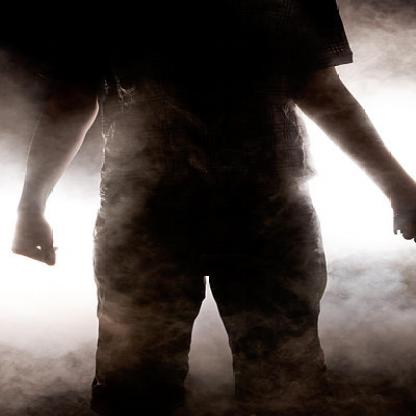gun: (387, 192, 415, 292)
